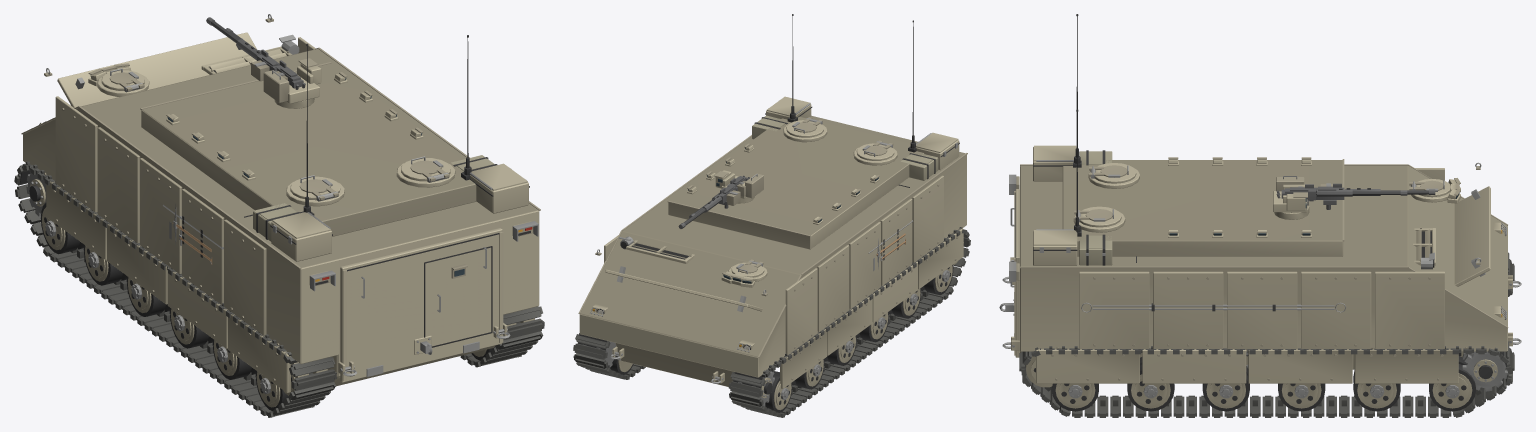
The model's file is usa_apc_ampv.glb.
The picture shows the model from 3 angles, left to right: view 1: azimuth 30°, elevation 25°; view 2: azimuth 150°, elevation 25°; view 3: azimuth 270°, elevation 25°; orthographic projection. The views are drawn at different scales.
Parts seen in each view (by area): view 1: body, door, turret, barrel; view 2: body, turret, barrel; view 3: body, turret, door, barrel.
Part boxes in pixels (left/top/right/bottom): body: left=14, top=14, right=544, bottom=417; door: left=340, top=228, right=503, bottom=382; turret: left=225, top=28, right=321, bottom=108; barrel: left=206, top=17, right=279, bottom=81; body: left=573, top=14, right=970, bottom=417; turret: left=689, top=170, right=763, bottom=217; barrel: left=678, top=186, right=740, bottom=228; body: left=999, top=14, right=1521, bottom=417; turret: left=1273, top=176, right=1407, bottom=219; door: left=1010, top=189, right=1019, bottom=357; barrel: left=1308, top=183, right=1435, bottom=209.
Bounding box in the file's own units: 3.44 × 4.71 × 7.06.
